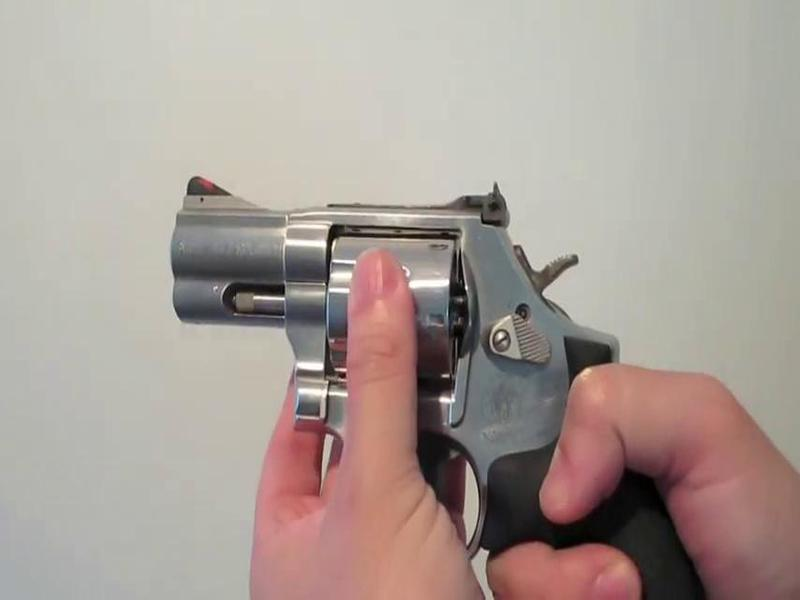Revolver: (114, 165, 664, 506)
